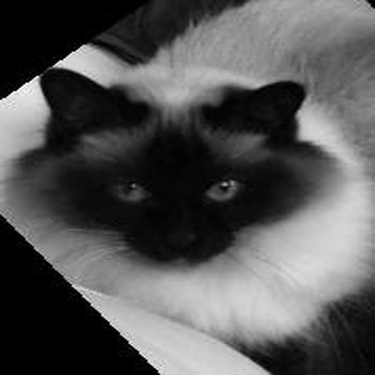cat: (15, 6, 371, 363)
